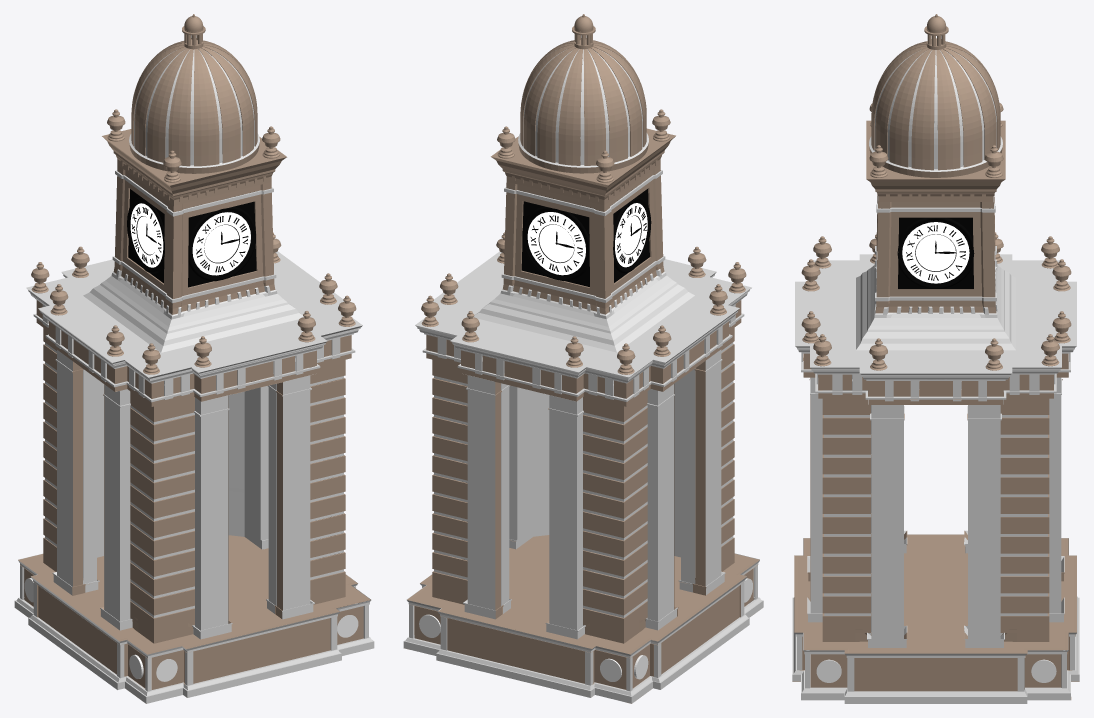
File: clocktower.glb
The picture shows the model from 3 angles, left to right: view 1: azimuth 30°, elevation 25°; view 2: azimuth 150°, elevation 25°; view 3: azimuth 270°, elevation 25°; orthographic projection. The views are drawn at different scales.
Visible parts, largest first — view 1: Cube, Cube.001, Sphere, Cylinder.005, Cylinder.008, Circle.002, Circle.003, Circle, Circle.001, Circle.004; view 2: Cube, Cube.001, Sphere, Cylinder.007, Cylinder.008, Circle.002, Circle.003, Circle, Circle.001, Circle.004; view 3: Cube, Cube.001, Sphere, Cylinder.006, Circle, Circle.001, Circle.002, Circle.003, Circle.005.
Part boxes in pixels (x1,y1,x2,y2): Cube: (14, 251, 374, 703); Cube.001: (83, 129, 303, 352); Sphere: (129, 40, 259, 173); Cylinder.005: (188, 206, 255, 281); Cylinder.008: (127, 197, 164, 273); Circle.002: (50, 232, 337, 356); Circle.003: (107, 109, 280, 182); Circle: (71, 246, 315, 367); Circle.001: (31, 262, 356, 374); Circle.004: (156, 615, 358, 681); Cube: (403, 251, 763, 703); Cube.001: (473, 128, 694, 352); Sphere: (518, 40, 648, 173); Cylinder.007: (522, 206, 589, 281); Cylinder.008: (613, 197, 651, 273); Circle.002: (440, 232, 727, 356); Circle.003: (497, 109, 670, 182); Circle: (461, 246, 706, 367); Circle.001: (421, 262, 746, 374); Circle.004: (419, 614, 621, 681); Cube: (792, 254, 1079, 703); Cube.001: (856, 120, 1015, 350); Sphere: (869, 41, 1002, 177); Cylinder.006: (897, 217, 974, 289); Circle: (801, 259, 1071, 343); Circle.001: (813, 236, 1059, 366); Circle.002: (869, 232, 1003, 370); Circle.003: (869, 103, 1003, 177); Circle.005: (816, 659, 1056, 682).
Size of the model in its own units: 3.51 by 8.46 by 3.51.
